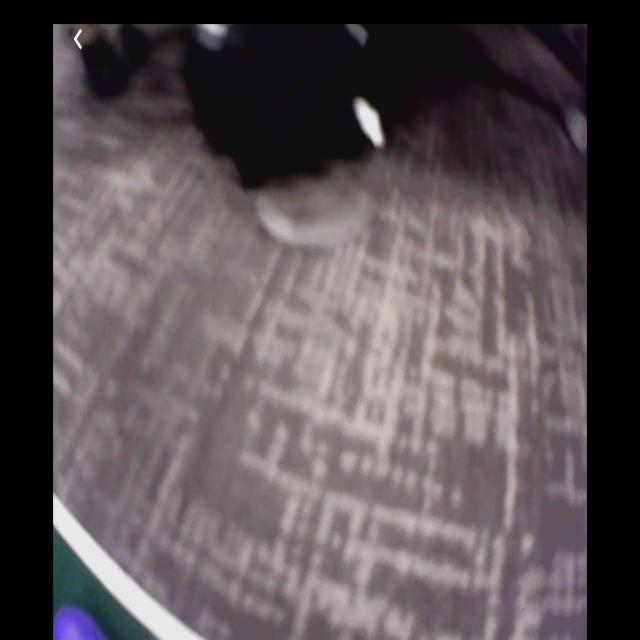ball: (54, 606, 110, 639)
